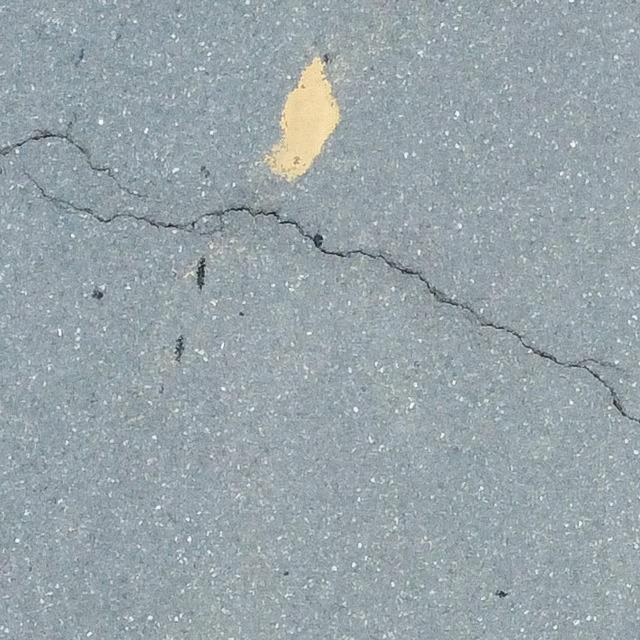TransverseCrack: (2, 116, 640, 422)
